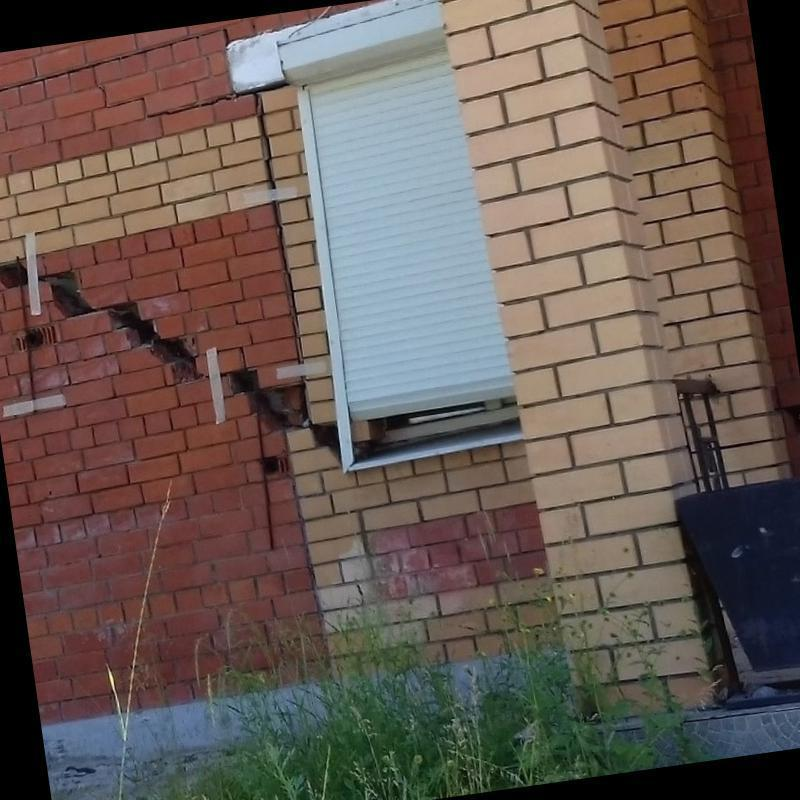crack: (96, 82, 276, 189), (40, 271, 210, 382), (0, 28, 230, 93), (232, 369, 310, 430), (273, 201, 302, 327), (310, 422, 342, 461), (0, 265, 28, 287), (291, 320, 302, 363), (265, 457, 278, 473)
